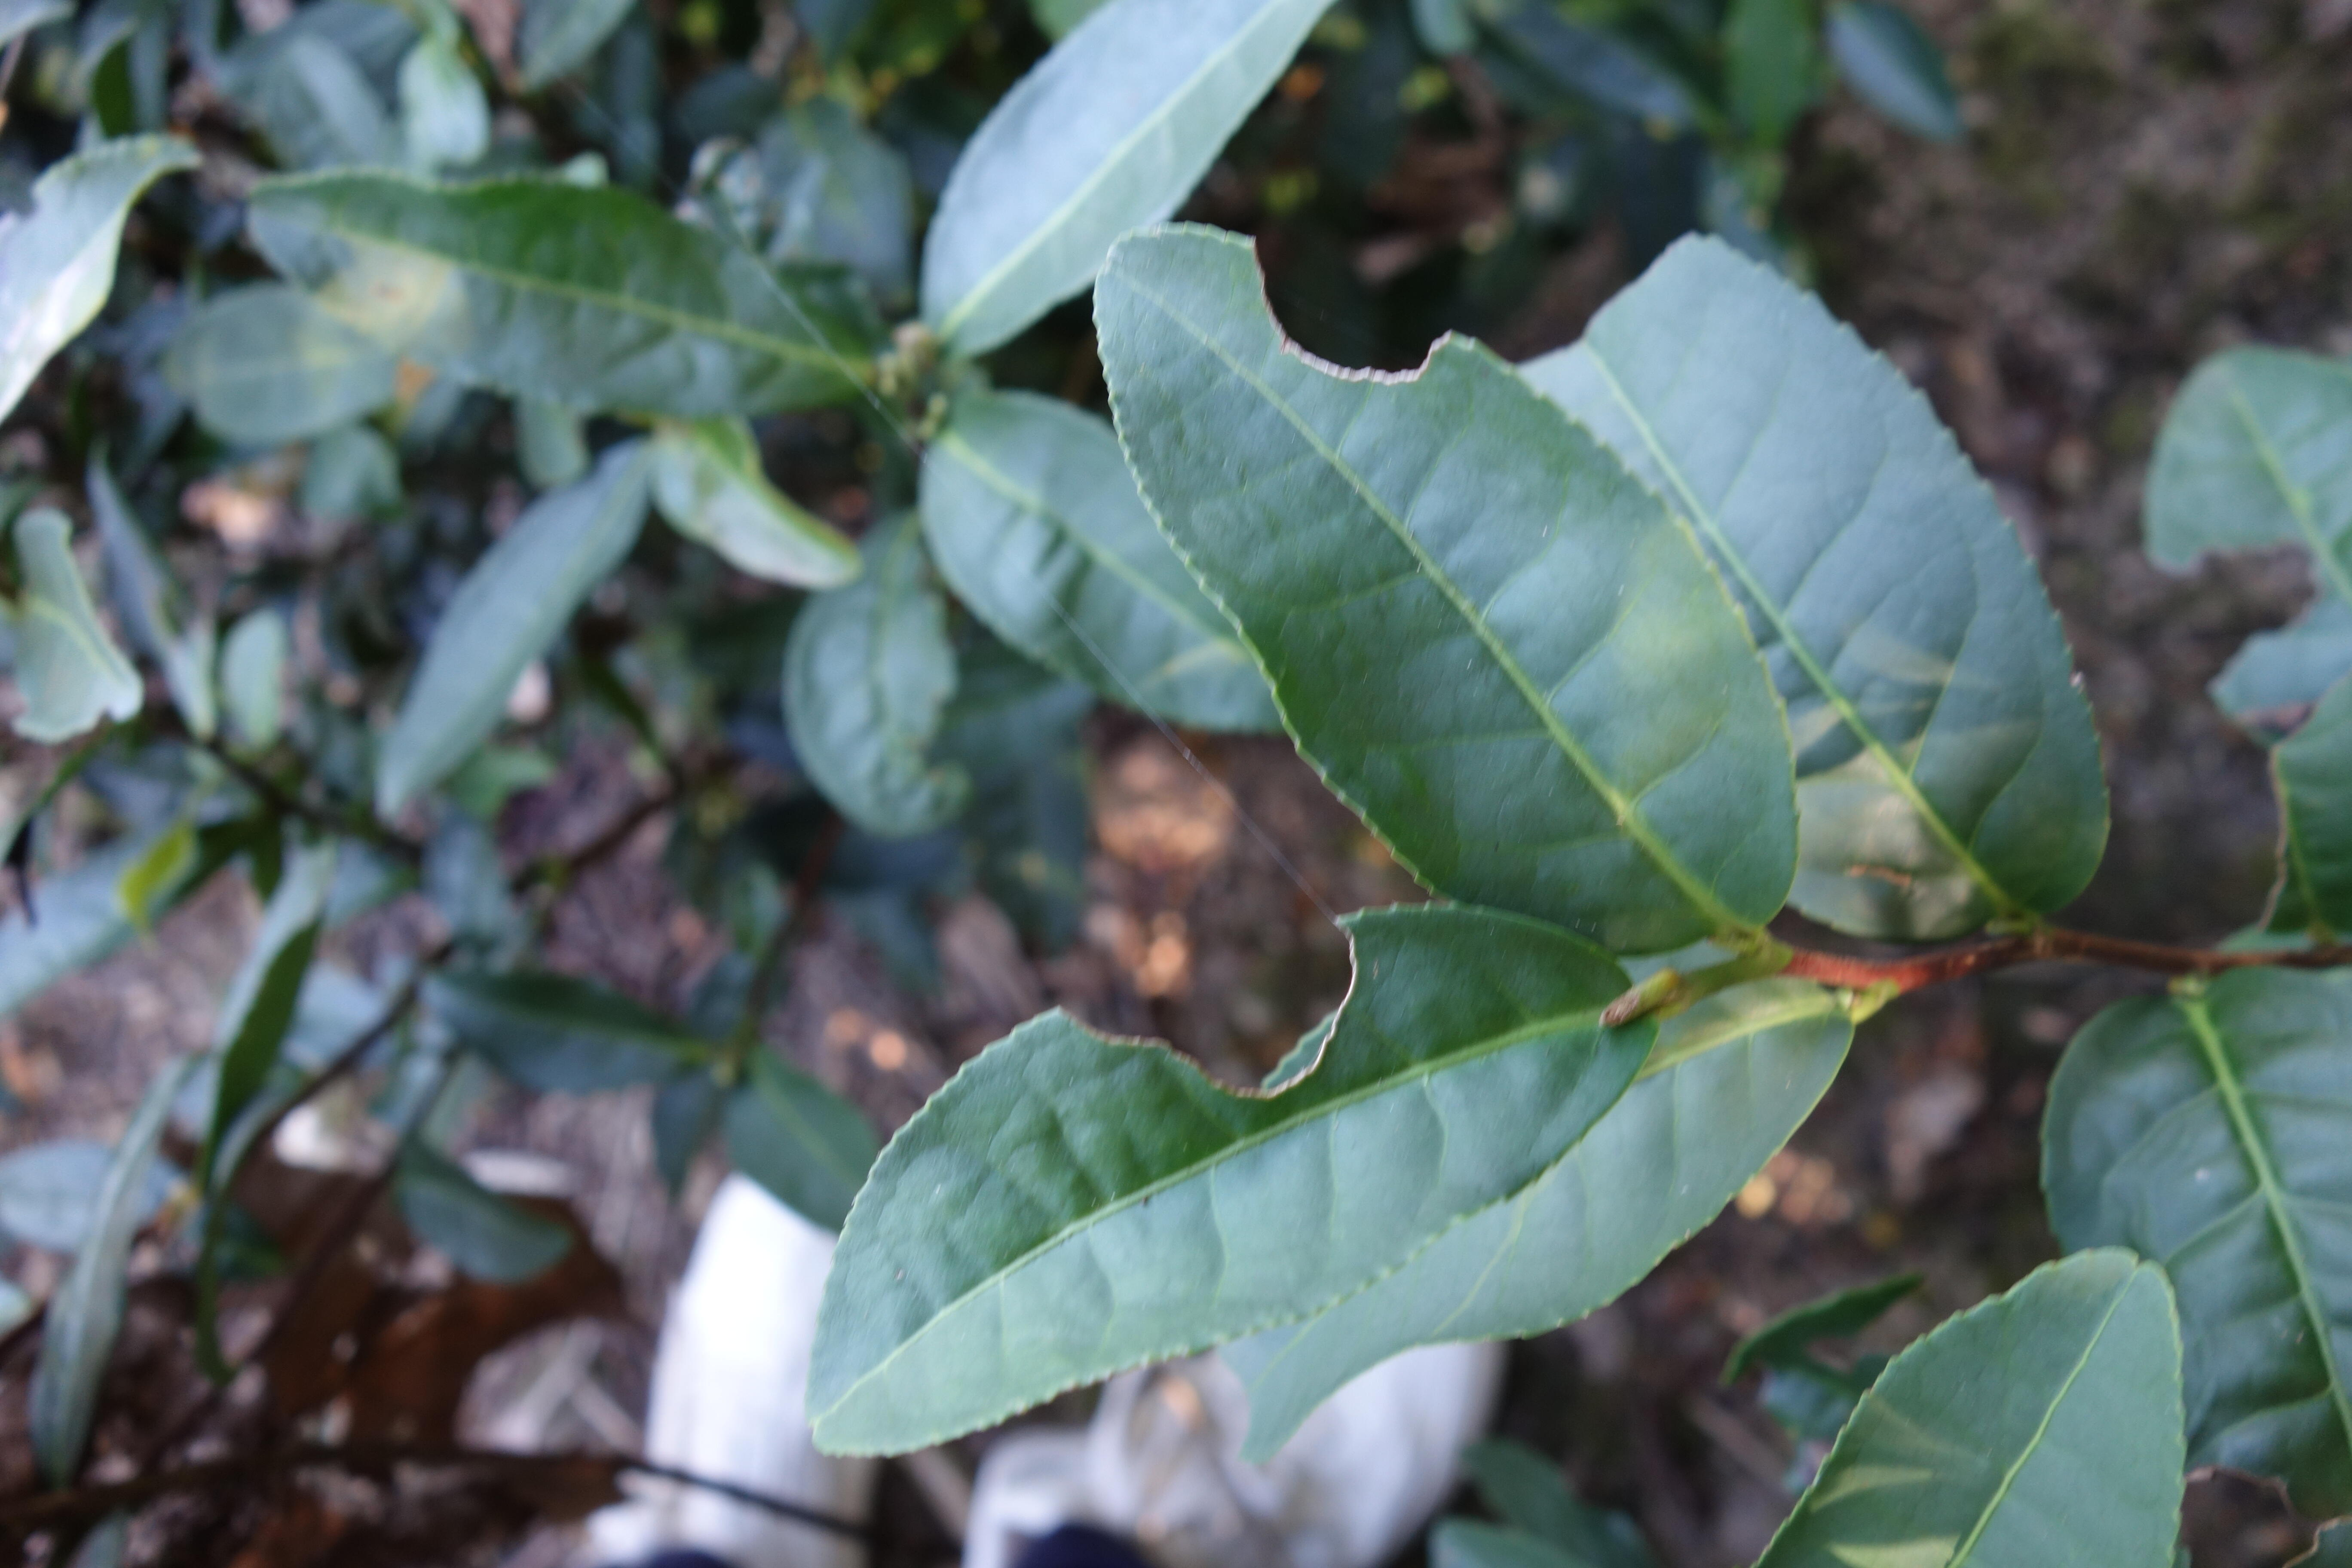chihuo_low: (1095, 220, 1795, 952), (800, 896, 1662, 1466), (1489, 234, 2116, 934)
healthy: (1746, 1242, 2186, 1564)
